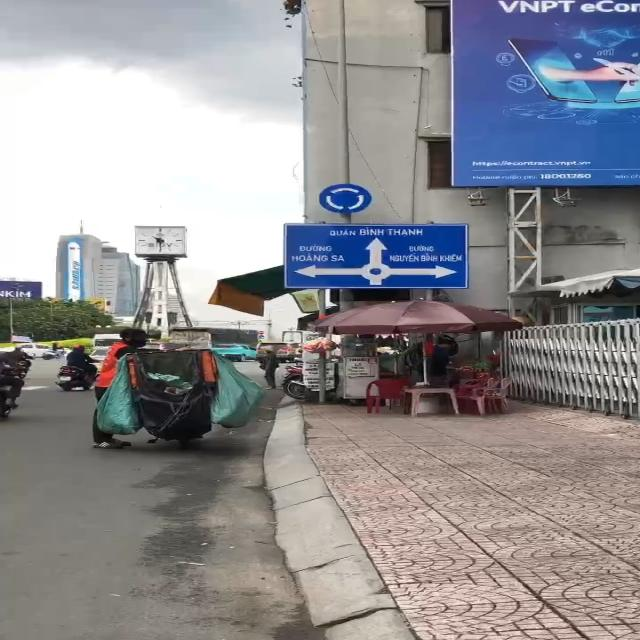Bien bao noi giao nhau chay theo vong xuyen: (312, 182, 378, 215)
